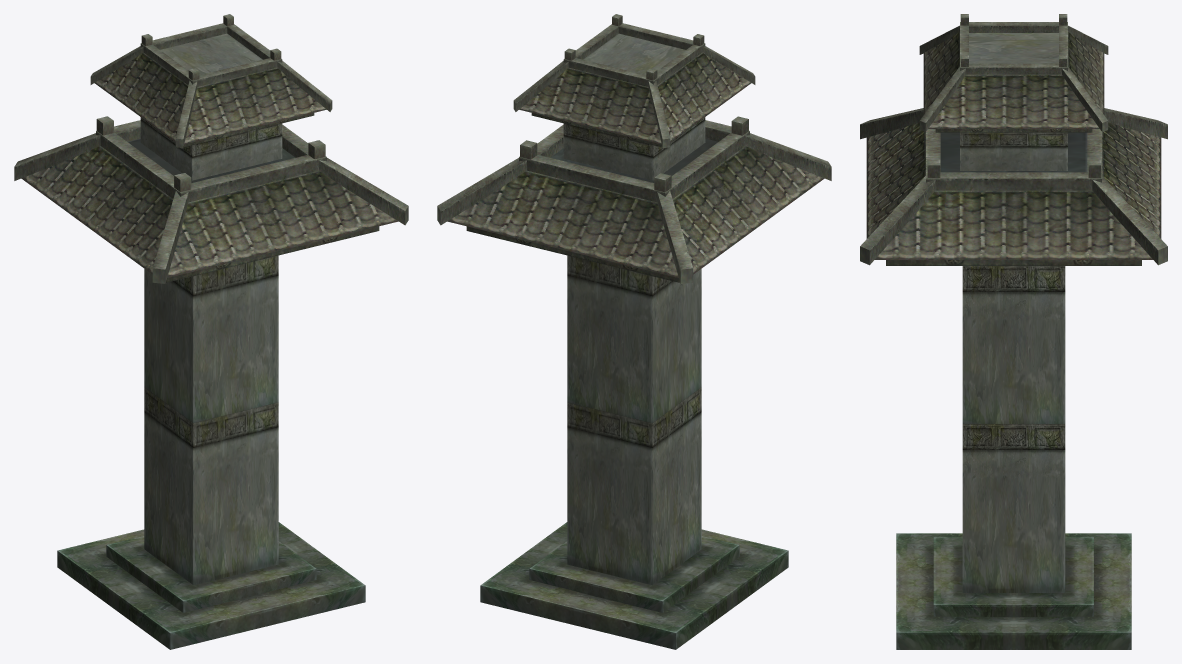
File: shizhu_ly_60.FBX
3 views of the same model, side by side, from view 1: azimuth 30°, elevation 25°; view 2: azimuth 150°, elevation 25°; view 3: azimuth 270°, elevation 25° (orthographic). The views are drawn at different scales.
Parts seen in each view (by area): view 1: shizhu_ly_60_wa, shizhu_ly_60_zhuti, shizhu_ly_60_jizuo; view 2: shizhu_ly_60_wa, shizhu_ly_60_zhuti, shizhu_ly_60_jizuo; view 3: shizhu_ly_60_wa, shizhu_ly_60_zhuti, shizhu_ly_60_jizuo.
Boxes of the visible parts, x1,y1,x2,y2 form: shizhu_ly_60_wa: (14,14,408,283); shizhu_ly_60_zhuti: (144,255,278,585); shizhu_ly_60_jizuo: (57,522,365,649); shizhu_ly_60_wa: (437,14,831,283); shizhu_ly_60_zhuti: (567,255,701,585); shizhu_ly_60_jizuo: (480,522,788,649); shizhu_ly_60_wa: (860,14,1167,265); shizhu_ly_60_zhuti: (962,266,1065,592); shizhu_ly_60_jizuo: (896,533,1131,649).
Size of what is drawn, in the model's own units: 254 by 513 by 254.
